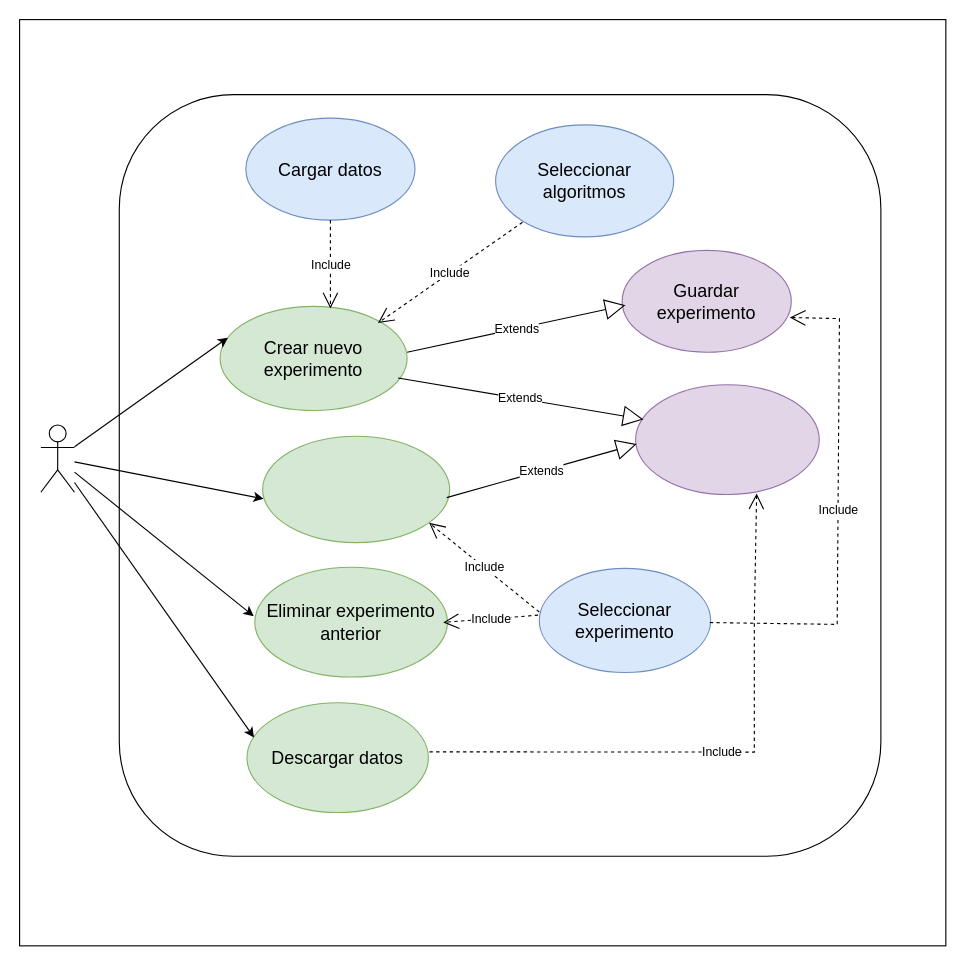
Some shapes in this 965 by 965 pixel diagram are drawn without their labels. Each missing label, with the box of its shape:
Actor: (40, 424, 74, 492)
Cargar experimento anterior: (262, 435, 450, 543)
Visualizar datos: (634, 384, 819, 494)
